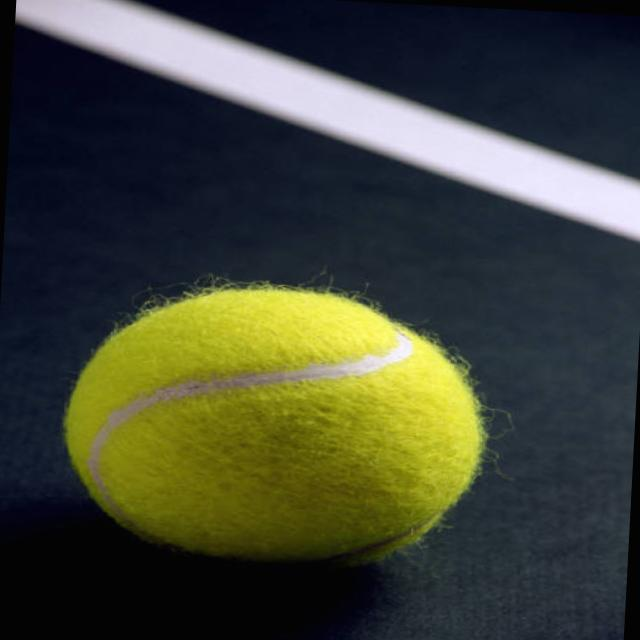Tennis Ball: (61, 284, 486, 572)
